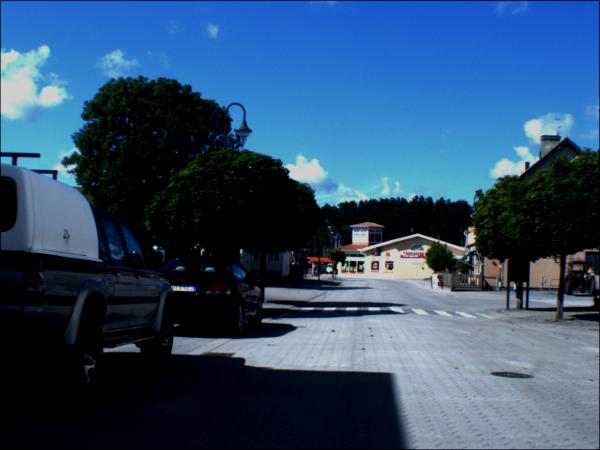NO_PARKING: (331, 254, 338, 262)
PEDESTRIAN_CROSSING: (212, 246, 238, 267)
